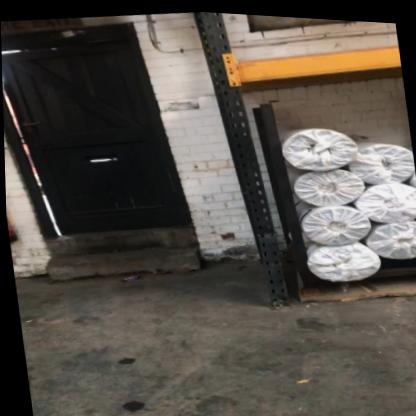vertical_damage: (244, 201, 281, 258)
